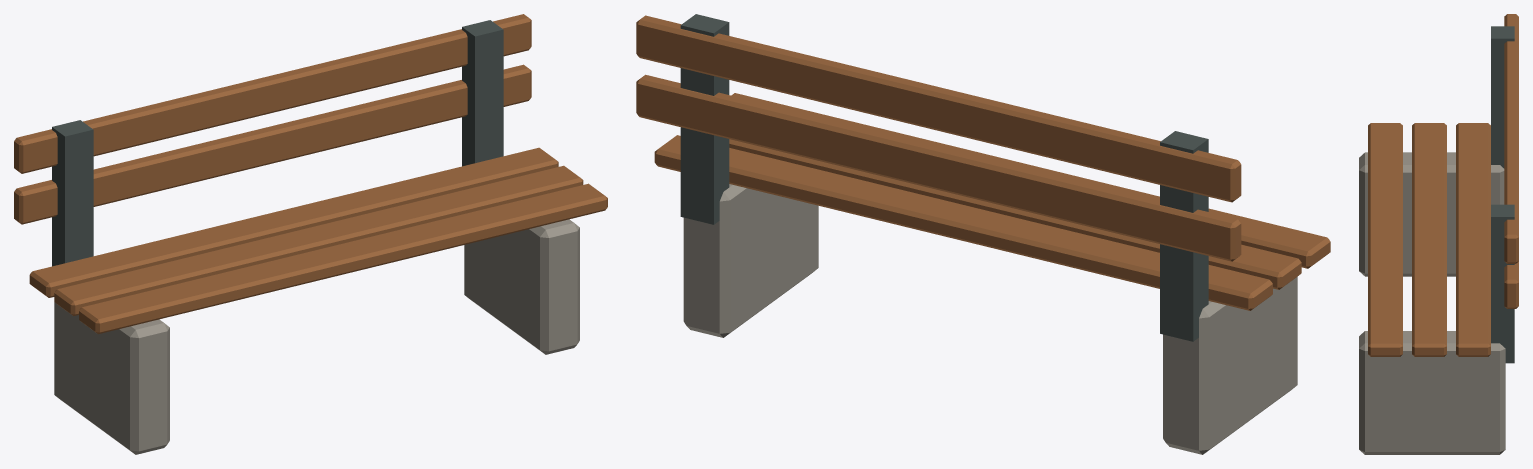
Rendered from banc.glb.
3 renders of one model, left to right at view 1: azimuth 30°, elevation 25°; view 2: azimuth 150°, elevation 25°; view 3: azimuth 270°, elevation 25°, orthographic. The views are drawn at different scales.
Visible parts, largest first — view 1: Dossier.001, Dossier, Latte, Latte.002, Latte.001, Pied, Pied.001, Montant.001, Montant; view 2: Dossier.001, Dossier, Latte.002, Pied, Pied.001, Latte.001, Montant.001, Montant, Latte; view 3: Pied.001, Latte, Latte.001, Latte.002, Pied, Dossier.001, Montant.001, Montant, Dossier.
Boxes of the visible parts, x1=… form: Dossier.001: x1=14, y1=14, x2=531, y2=173; Dossier: x1=14, y1=64, x2=531, y2=224; Latte: x1=79, y1=183, x2=607, y2=334; Latte.002: x1=29, y1=147, x2=558, y2=297; Latte.001: x1=54, y1=165, x2=583, y2=315; Pied: x1=54, y1=302, x2=169, y2=454; Pied.001: x1=464, y1=219, x2=579, y2=354; Montant.001: x1=462, y1=20, x2=503, y2=166; Montant: x1=52, y1=120, x2=93, y2=266; Dossier.001: x1=636, y1=15, x2=1241, y2=202; Dossier: x1=636, y1=74, x2=1241, y2=261; Latte.002: x1=654, y1=135, x2=1272, y2=310; Pied: x1=1163, y1=277, x2=1297, y2=454; Pied.001: x1=683, y1=184, x2=818, y2=337; Latte.001: x1=729, y1=139, x2=1301, y2=289; Montant.001: x1=680, y1=14, x2=729, y2=224; Montant: x1=1160, y1=131, x2=1208, y2=341; Latte: x1=731, y1=93, x2=1330, y2=268; Pied.001: x1=1359, y1=331, x2=1505, y2=454; Latte: x1=1368, y1=123, x2=1402, y2=356; Latte.001: x1=1412, y1=123, x2=1446, y2=356; Latte.002: x1=1456, y1=123, x2=1490, y2=356; Pied: x1=1359, y1=152, x2=1504, y2=276; Dossier.001: x1=1504, y1=14, x2=1518, y2=263; Montant.001: x1=1491, y1=204, x2=1514, y2=363; Montant: x1=1491, y1=26, x2=1514, y2=168; Dossier: x1=1504, y1=261, x2=1518, y2=308.
Size of the model in its own units: 1.8 by 0.895 by 0.545.
